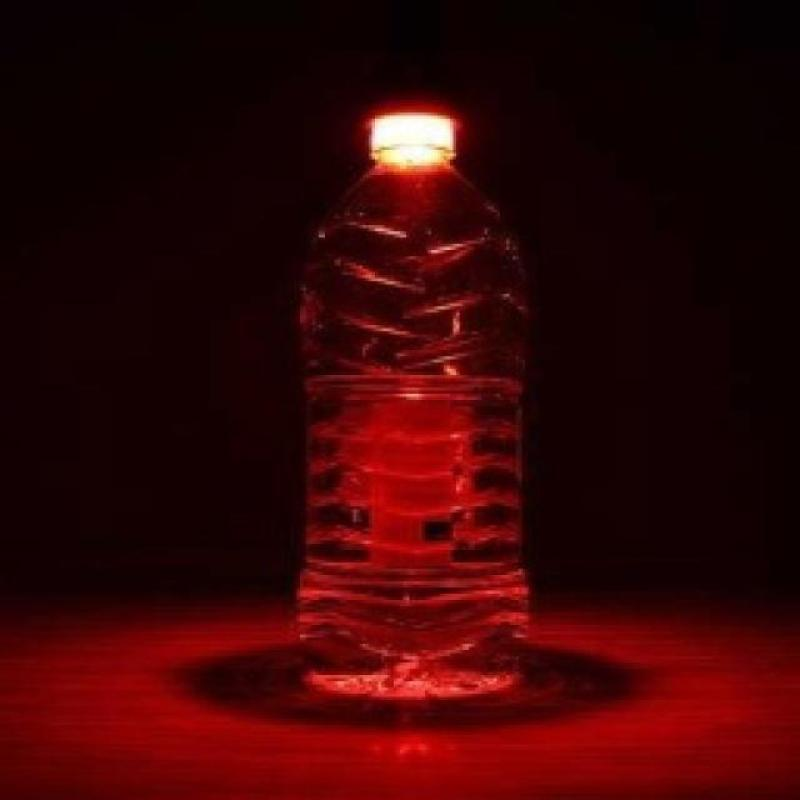botella: (298, 113, 533, 738)
